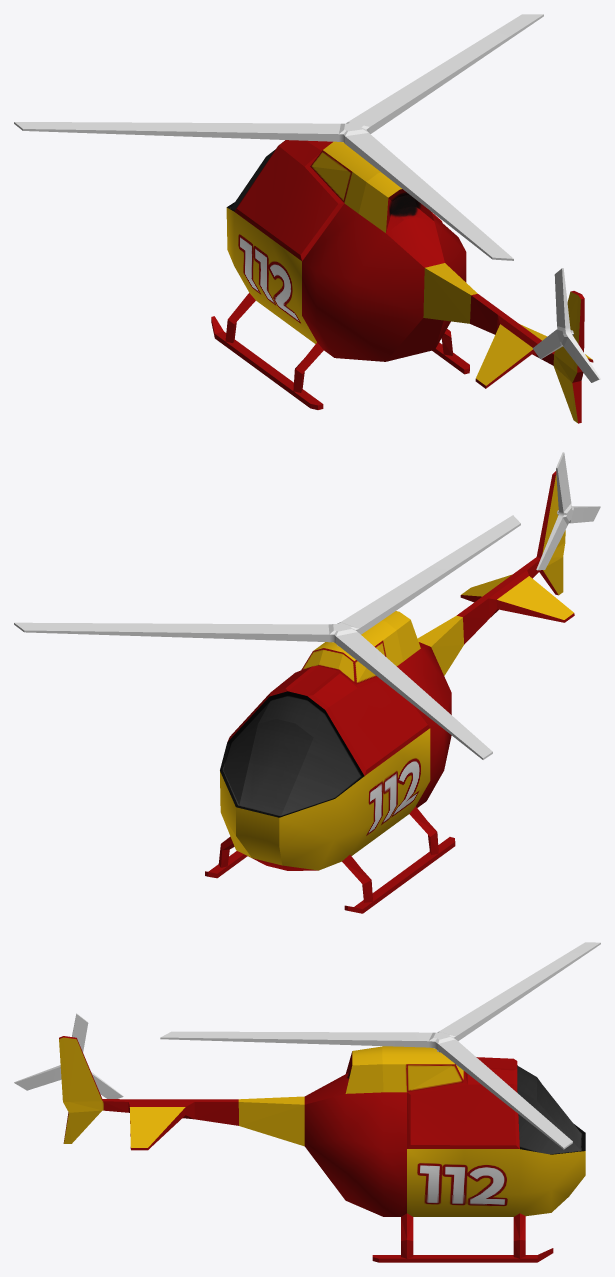
Rendered from Helicoptero.FBX.
3 views of the same model, one above another, from view 1: azimuth 30°, elevation 25°; view 2: azimuth 150°, elevation 25°; view 3: azimuth 270°, elevation 25° (orthographic). The views are drawn at different scales.
Parts seen in each view (by area): view 1: helicoptero, Rotor, Rotorcola; view 2: helicoptero, Rotor, Rotorcola; view 3: helicoptero, Rotor, Rotorcola.
Part boxes in pixels (<box>): helicoptero: <box>211,140,593,423</box>; Rotor: <box>14,14,543,260</box>; Rotorcola: <box>532,268,600,382</box>; helicoptero: <box>205,471,574,913</box>; Rotor: <box>14,515,520,759</box>; Rotorcola: <box>536,452,600,570</box>; helicoptero: <box>59,1036,585,1262</box>; Rotor: <box>160,942,600,1149</box>; Rotorcola: <box>14,1013,123,1098</box>.
Bounding box in the file's own units: 78.82 × 38.05 × 95.03.
Materials: 1 (1 with a texture image).
